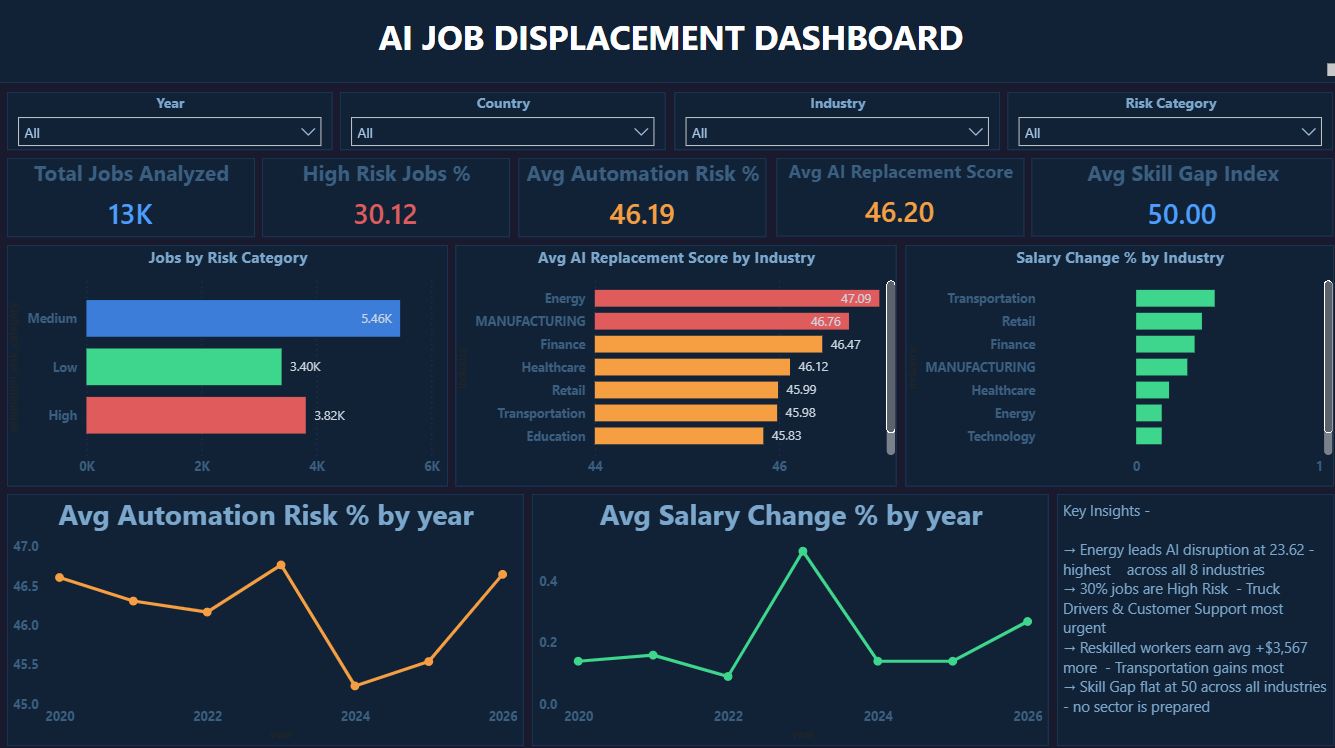

The dashboard page shown, as its layout file describes it:
{"tool":"powerbi","page":{"name":"Overview","canvas":[1280,720],"ordinal":0},"visuals":[{"type":"shape","box":[0,0,1280,143.3],"z":0,"group":"g1"},{"type":"cardVisual","title":"Total Jobs Analyzed","fields":{"Data":["Measures Table.Total Jobs"]},"box":[0,273.3,333.3,131.7],"z":0},{"type":"textbox","box":[300,0,681.7,138.6],"z":1000,"group":"g1"},{"type":"lineChart","fields":{"Category":["ai_jobs_dirty.year"],"Y":["Measures Table.Avg Automation Risk %"]},"box":[1.7,570,630,150],"z":1000},{"type":"cardVisual","title":"High Risk Jobs %","fields":{"Data":["Measures Table.High Risk %"]},"box":[348.3,273.3,283.3,131.7],"z":2000},{"type":"lineChart","fields":{"Category":["ai_jobs_dirty.year"],"Y":["Measures Table.Avg Salary Change %"]},"box":[650,570,630,150],"z":3000},{"type":"cardVisual","title":"Avg AI Replacement Score","fields":{"Data":["Measures Table.Avg AI Replacement Score"]},"box":[646.7,273.3,333.3,131.7],"z":4000},{"type":"cardVisual","title":"Avg Salary Before","fields":{"Data":["Measures Table.Avg Salary Before"]},"box":[0,421.7,631.7,131.7],"z":5000},{"type":"cardVisual","title":"Avg Salary After","fields":{"Data":["Measures Table.Avg Salary After"]},"box":[641.7,421.7,638.3,131.7],"z":6000},{"type":"cardVisual","title":"Avg Skill Gap Index","fields":{"Data":["Measures Table.Avg Skill Gap Index"]},"box":[996.7,273.3,283.3,131.7],"z":7000},{"type":"group","id":"g1","title":"Group 2","box":[0,0,1280,143.3],"z":8000},{"type":"slicer","title":"Year","fields":{"Values":["ai_jobs_dirty.year"]},"box":[0,148.3,333.3,106.7],"z":9000},{"type":"slicer","title":"Country","fields":{"Values":["ai_jobs_dirty.country"]},"box":[348.3,150,283.3,105],"z":10000},{"type":"slicer","title":"Industry","fields":{"Values":["ai_jobs_dirty.industry"]},"box":[648.3,148.3,331.7,106.7],"z":11000},{"type":"slicer","title":"Risk Category","fields":{"Values":["ai_jobs_dirty.automation_risk_category"]},"box":[996.7,148.3,283.3,106.7],"z":12000}]}

Visuals, with their boxes in screenshot pixels (x1, y1, x2, y2), scaled from the page's 1280x720 canvas onto the 1335x748 screenshot:
shape: <box>0,0,1334,149</box>
"Total Jobs Analyzed" cardVisual: <box>0,284,348,421</box>
textbox: <box>313,0,1024,144</box>
lineChart - ai_jobs_dirty.year x Measures Table.Avg Automation Risk %: <box>2,592,659,747</box>
"High Risk Jobs %" cardVisual: <box>363,284,659,421</box>
lineChart - ai_jobs_dirty.year x Measures Table.Avg Salary Change %: <box>678,592,1334,747</box>
"Avg AI Replacement Score" cardVisual: <box>674,284,1022,421</box>
"Avg Salary Before" cardVisual: <box>0,438,659,575</box>
"Avg Salary After" cardVisual: <box>669,438,1334,575</box>
"Avg Skill Gap Index" cardVisual: <box>1040,284,1334,421</box>
"Group 2" group: <box>0,0,1334,149</box>
"Year" slicer: <box>0,154,348,265</box>
"Country" slicer: <box>363,156,659,265</box>
"Industry" slicer: <box>676,154,1022,265</box>
"Risk Category" slicer: <box>1040,154,1334,265</box>
